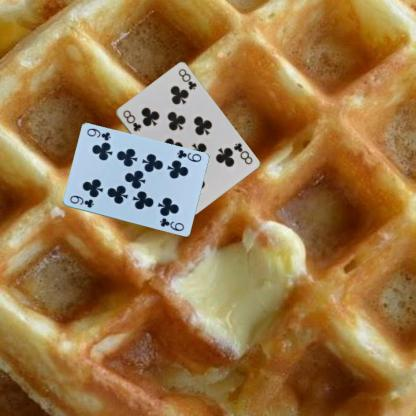8c: (229, 140, 254, 166), (120, 107, 143, 133)
9c: (67, 193, 95, 209), (174, 148, 202, 164)
